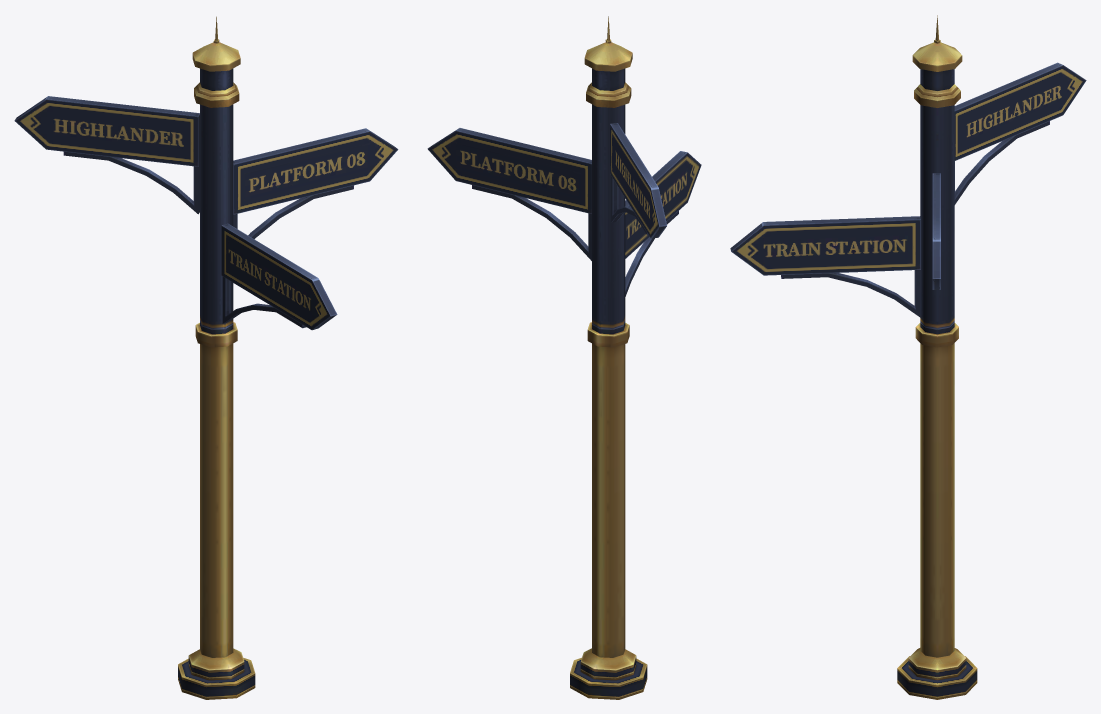
The model's file is my_highlander_01_signboard_02.glb.
3 renders of one model, left to right at view 1: azimuth 30°, elevation 25°; view 2: azimuth 150°, elevation 25°; view 3: azimuth 270°, elevation 25°, orthographic.
Visible parts, largest first — view 1: my_highlander_01_signboard_02; view 2: my_highlander_01_signboard_02; view 3: my_highlander_01_signboard_02.
Boxes of the visible parts, <box> form: my_highlander_01_signboard_02: <box>14,16,398,699</box>; my_highlander_01_signboard_02: <box>427,16,701,699</box>; my_highlander_01_signboard_02: <box>730,15,1086,699</box>.
Size of the model in its own units: 0.0111 by 0.0228 by 0.011.
1 material, 1 textured.
